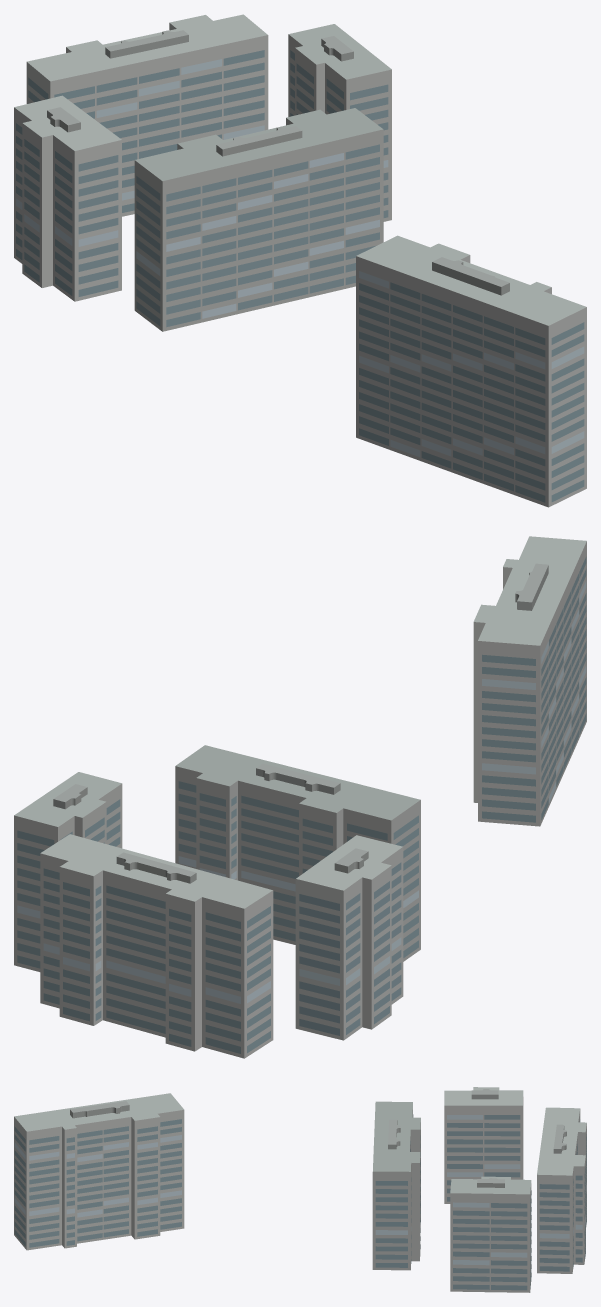
File: apt-a12208001.glb
3 renders of one model, top to bottom at view 1: azimuth 30°, elevation 25°; view 2: azimuth 150°, elevation 25°; view 3: azimuth 270°, elevation 25°, orthographic. The views are drawn at different scales.
Visible parts, largest first — view 1: apt-a12208001; view 2: apt-a12208001; view 3: apt-a12208001.
Part boxes in pixels (bbox=[...]): apt-a12208001: bbox=[14, 14, 586, 507]; apt-a12208001: bbox=[14, 536, 586, 1058]; apt-a12208001: bbox=[14, 1087, 586, 1292].
Size of the model in its own units: 75.89 by 41 by 171.
